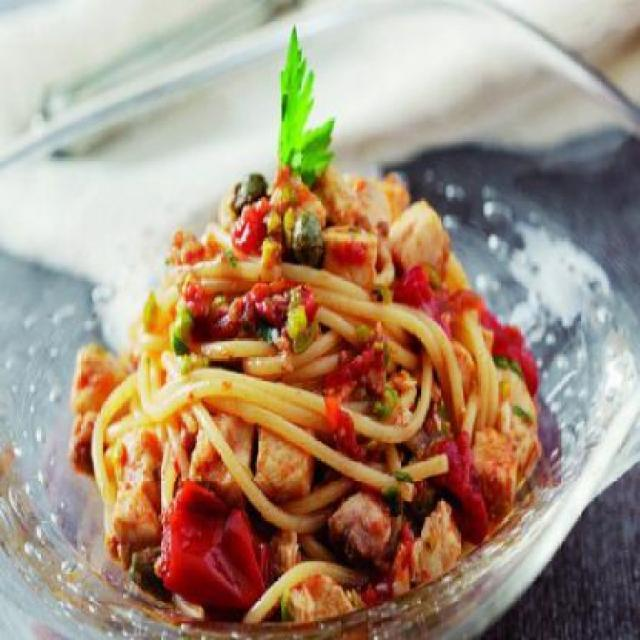Pasta al ragu: (92, 31, 558, 598)
